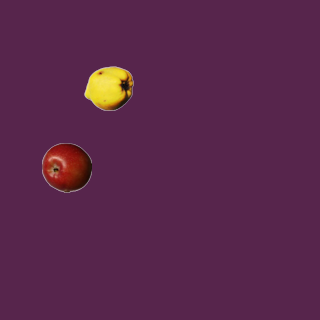Apple Braeburn: (41, 142, 91, 192)
Quince: (83, 63, 133, 113)
